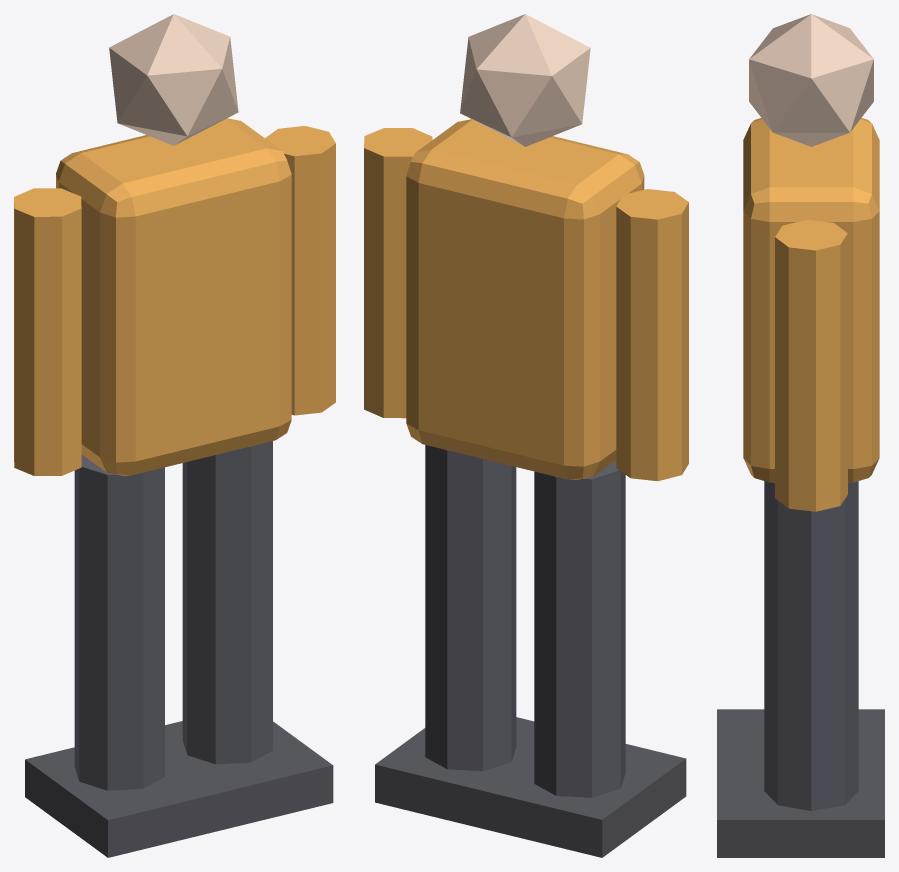
The model's file is bt-fh6-ped-b.glb.
3 views of the same model, side by side, from view 1: azimuth 30°, elevation 25°; view 2: azimuth 150°, elevation 25°; view 3: azimuth 270°, elevation 25° (orthographic).
Visible parts, largest first — view 1: bt-fh6-ped-b_torso, bt-fh6-ped-b_legL, bt-fh6-ped-b_legR, bt-fh6-ped-b_feet, bt-fh6-ped-b_arm-1, bt-fh6-ped-b_arm1, bt-fh6-ped-b_head; view 2: bt-fh6-ped-b_torso, bt-fh6-ped-b_legL, bt-fh6-ped-b_legR, bt-fh6-ped-b_arm-1, bt-fh6-ped-b_feet, bt-fh6-ped-b_head, bt-fh6-ped-b_arm1; view 3: bt-fh6-ped-b_legR, bt-fh6-ped-b_torso, bt-fh6-ped-b_arm1, bt-fh6-ped-b_feet, bt-fh6-ped-b_head.
Part boxes in pixels (box(x1,y1,x2,y2)): bt-fh6-ped-b_torso: box(56, 118, 291, 475); bt-fh6-ped-b_legL: box(74, 454, 164, 790); bt-fh6-ped-b_legR: box(182, 441, 272, 764); bt-fh6-ped-b_feet: box(25, 721, 333, 857); bt-fh6-ped-b_arm-1: box(14, 188, 81, 475); bt-fh6-ped-b_arm1: box(265, 126, 335, 415); bt-fh6-ped-b_head: box(109, 14, 238, 145); bt-fh6-ped-b_torso: box(406, 119, 644, 479); bt-fh6-ped-b_legL: box(534, 460, 625, 797); bt-fh6-ped-b_legR: box(425, 445, 516, 771); bt-fh6-ped-b_arm-1: box(616, 189, 688, 481); bt-fh6-ped-b_feet: box(375, 717, 686, 857); bt-fh6-ped-b_head: box(460, 14, 590, 146); bt-fh6-ped-b_arm1: box(364, 128, 432, 418); bt-fh6-ped-b_legR: box(764, 481, 858, 810); bt-fh6-ped-b_torso: box(743, 118, 879, 482); bt-fh6-ped-b_arm1: box(775, 219, 847, 511); bt-fh6-ped-b_feet: box(717, 709, 884, 857); bt-fh6-ped-b_head: box(749, 14, 873, 146).
Bounding box in the file's own units: 0.699 × 1.66 × 0.32.
